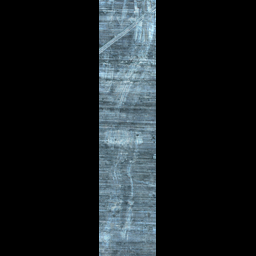d: (99, 1, 153, 57), (107, 129, 133, 243), (99, 58, 139, 116), (105, 126, 146, 153)
